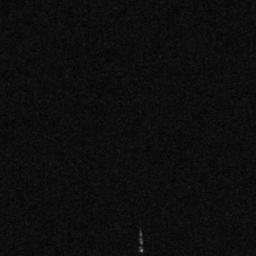ship: (138, 231, 144, 253)
